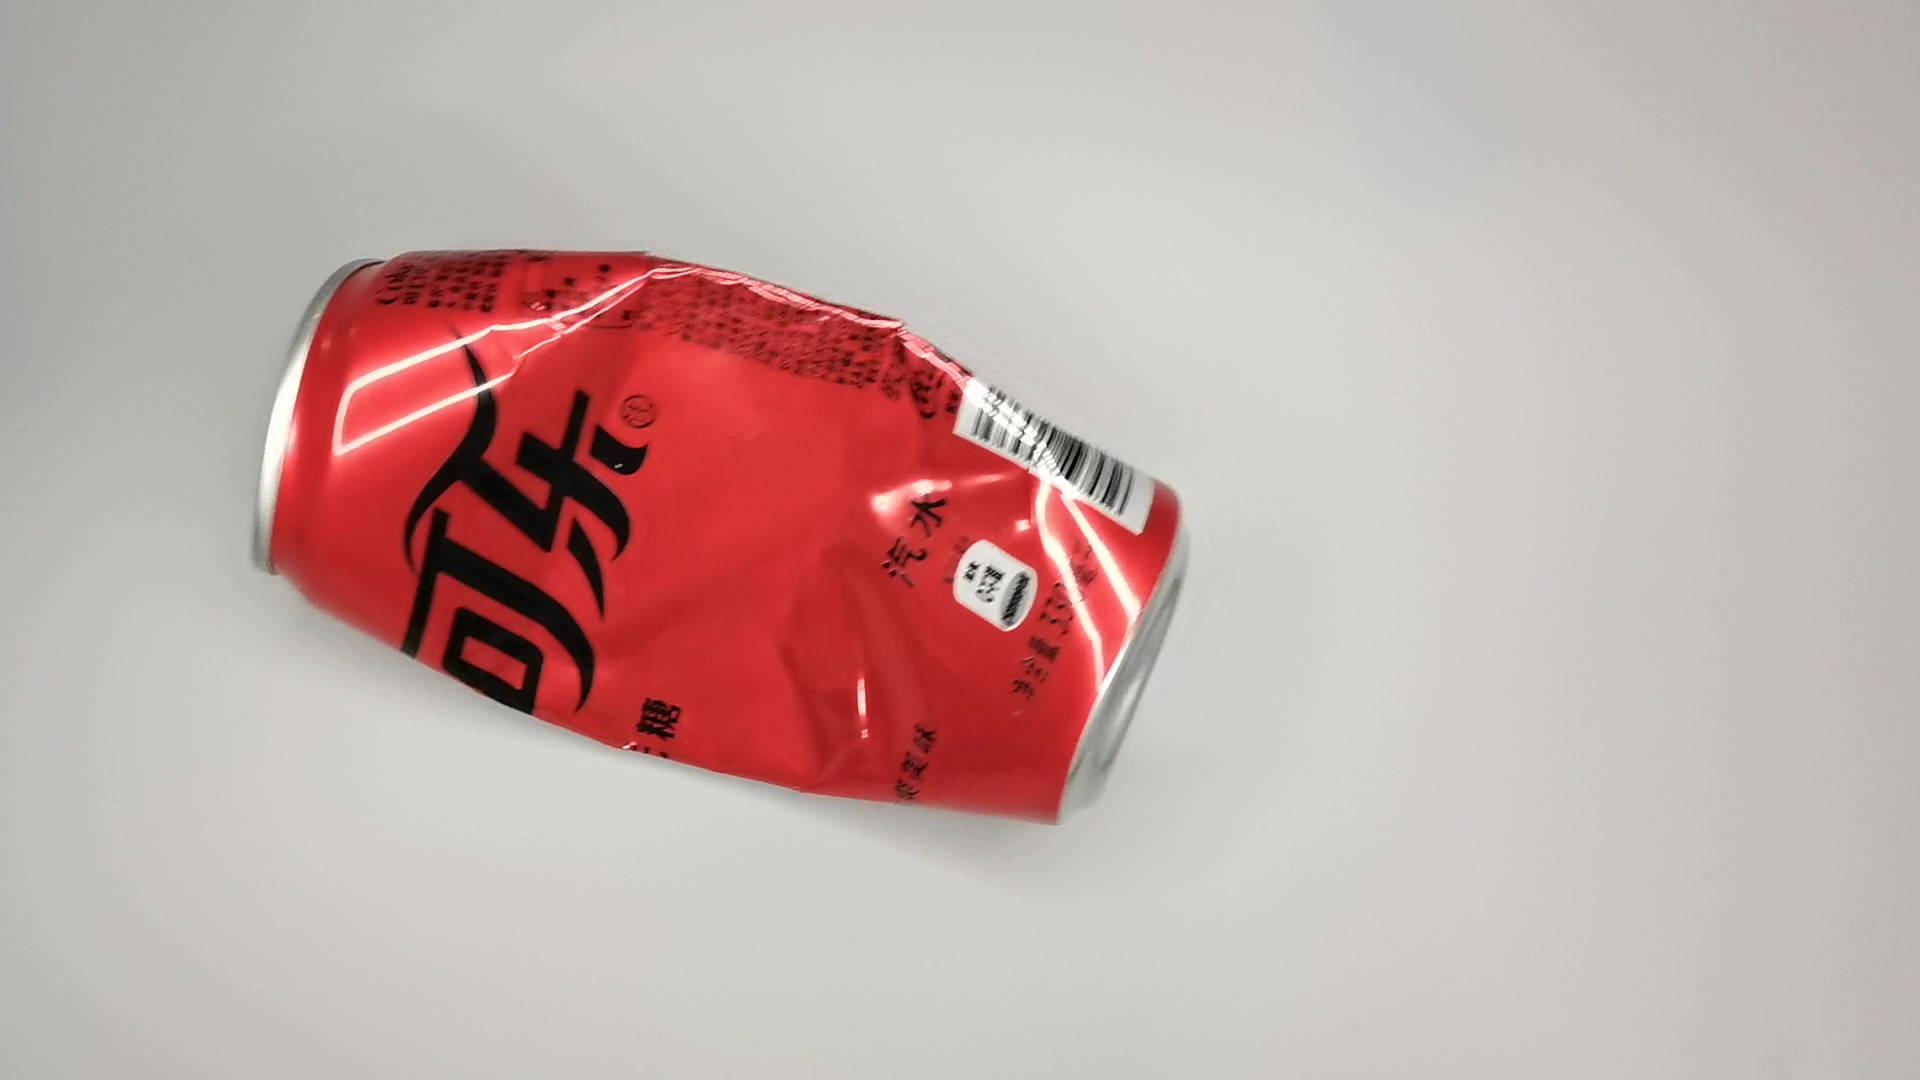can: (247, 235, 1204, 839)
